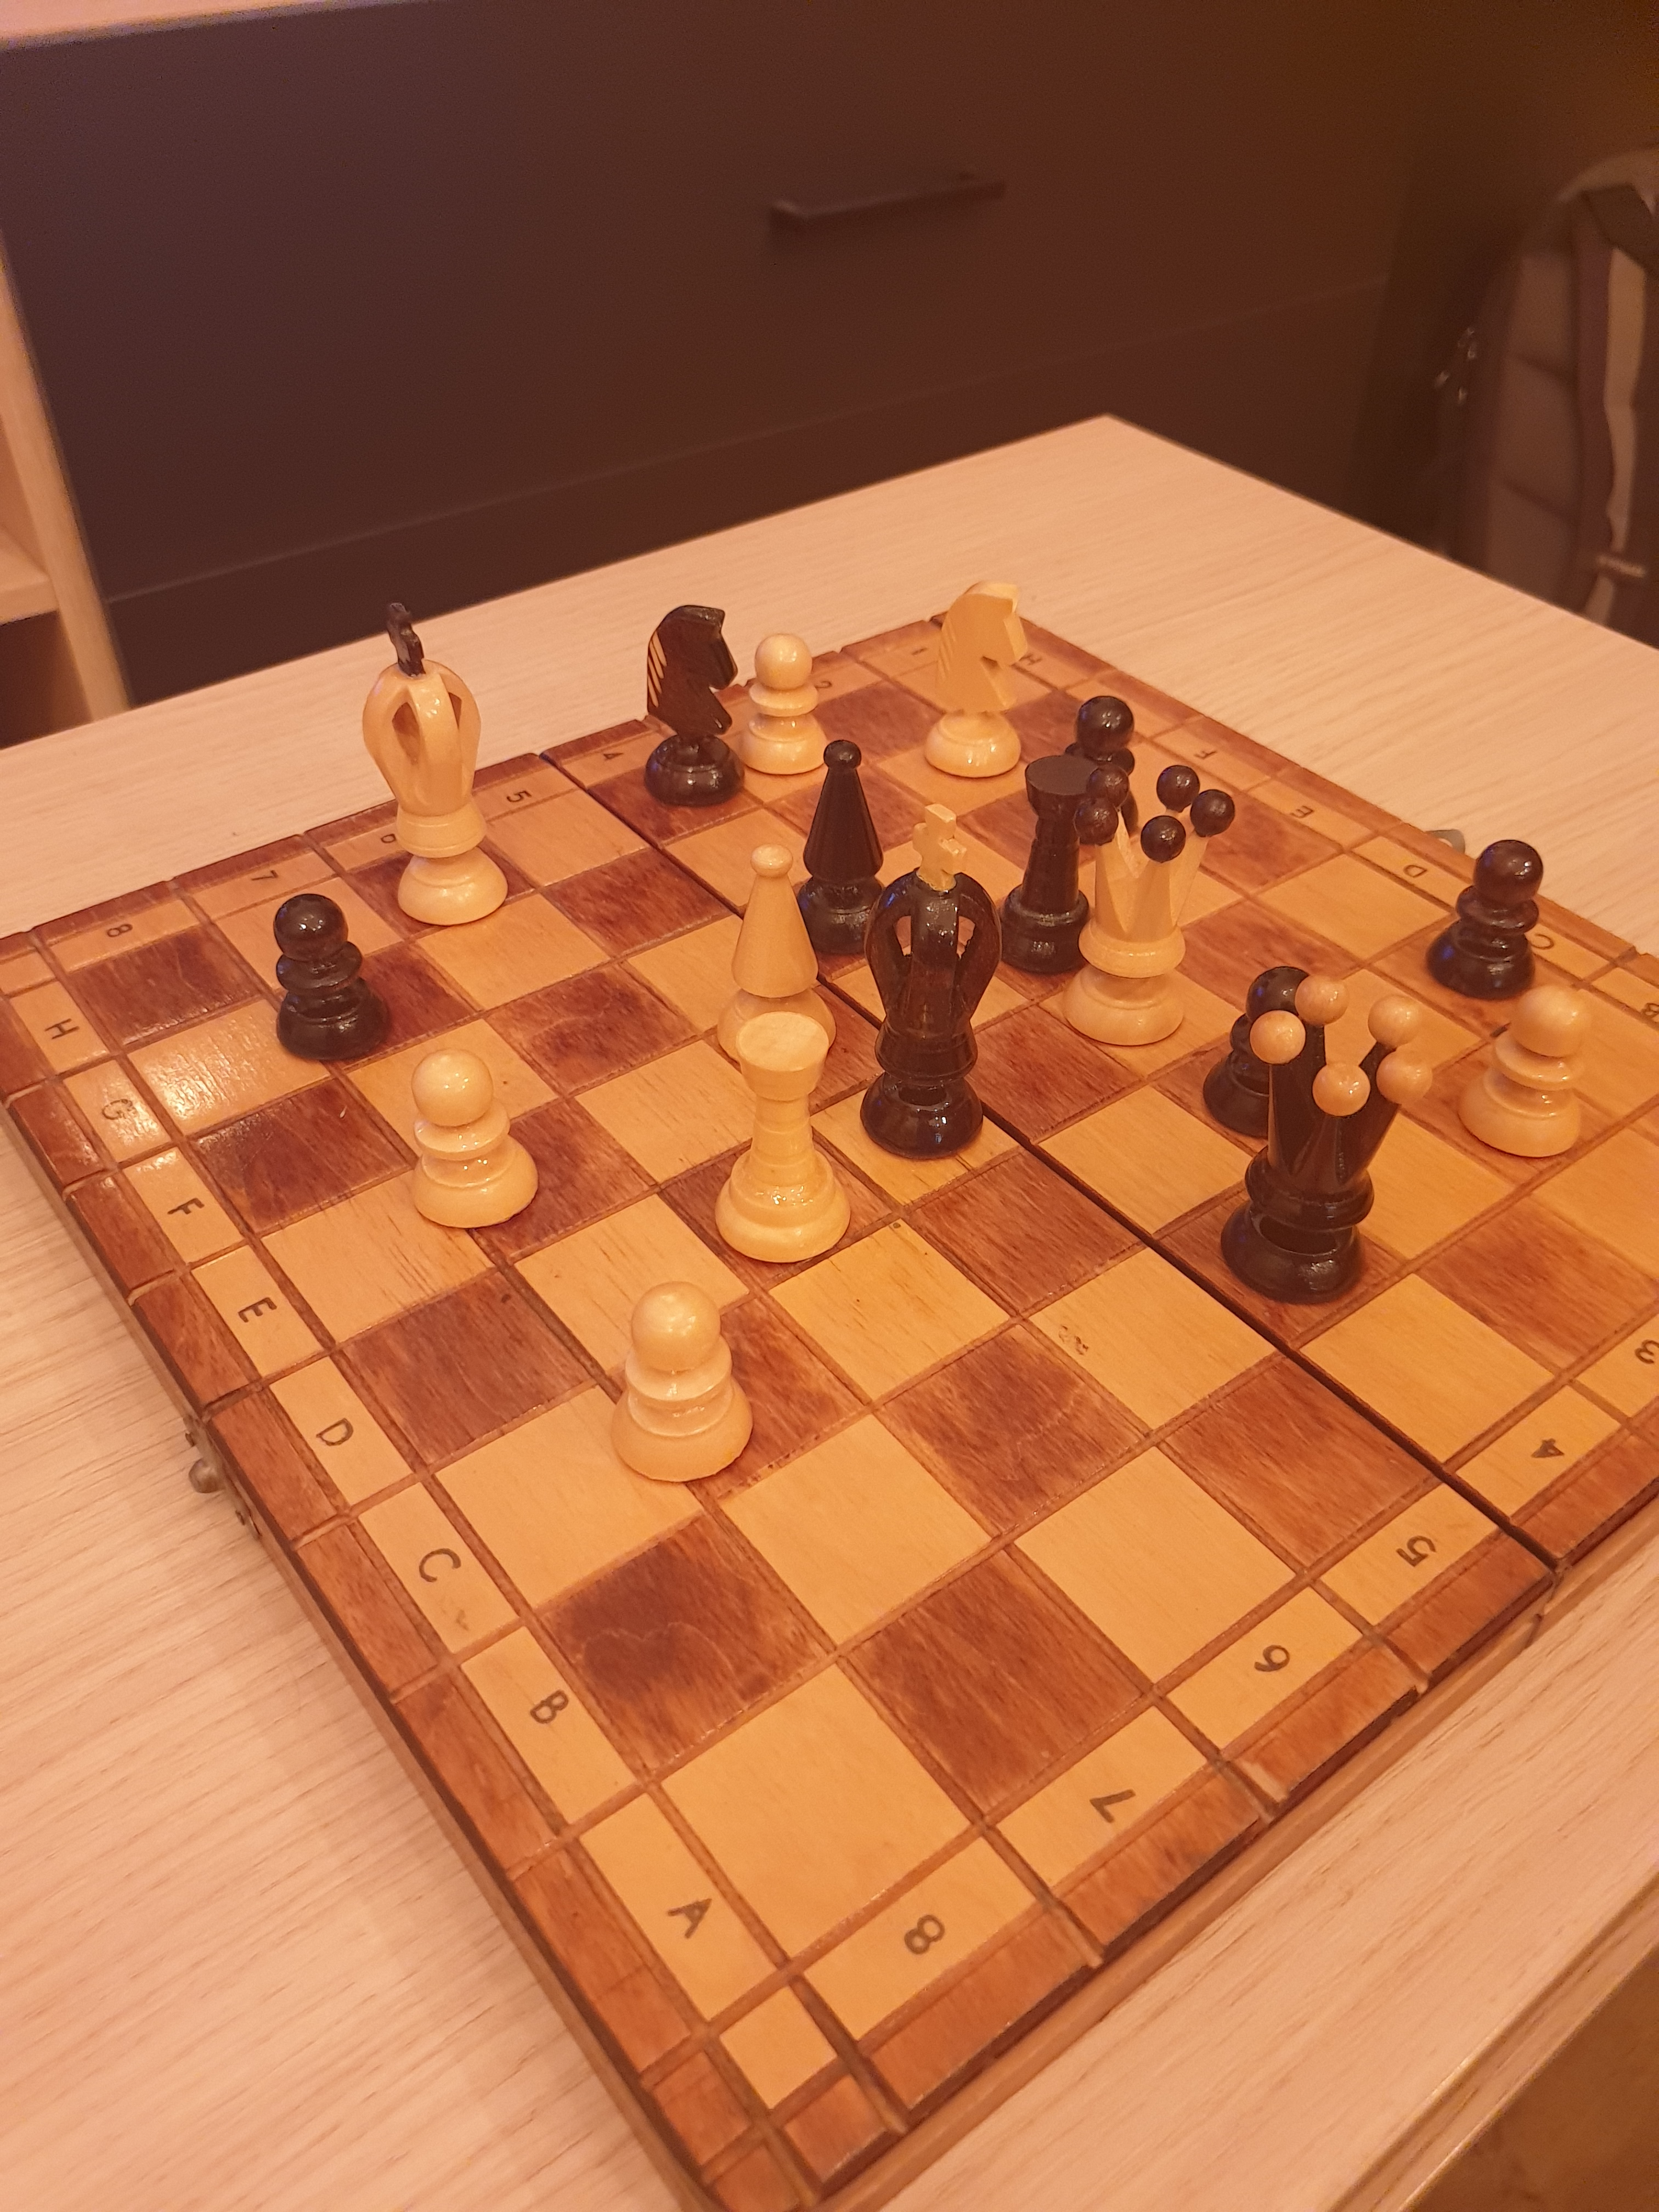bbishop: (786, 726, 901, 977)
bking: (856, 796, 1012, 1170)
bknight: (631, 589, 751, 813)
bpawn: (260, 873, 406, 1096), (1194, 956, 1337, 1146), (1422, 831, 1558, 1019), (1042, 672, 1157, 873)
bqueen: (1211, 974, 1446, 1322)
brook: (983, 747, 1114, 991)
wbishop: (711, 831, 849, 1096)
wking: (352, 585, 530, 928)
wknight: (917, 578, 1039, 784)
wpawn: (594, 1270, 765, 1493), (396, 1038, 547, 1245), (1445, 977, 1605, 1172), (732, 617, 842, 799)
wqueen: (1060, 756, 1236, 1057)
wrook: (702, 1008, 868, 1271)
